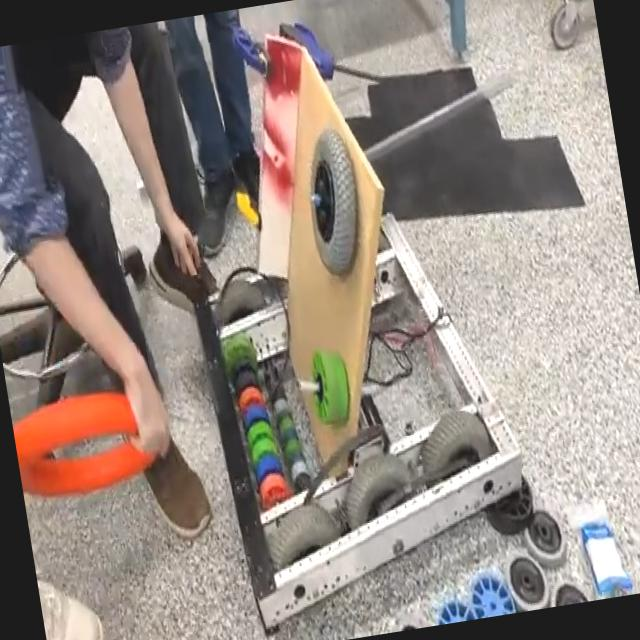note: (10, 376, 168, 509)
